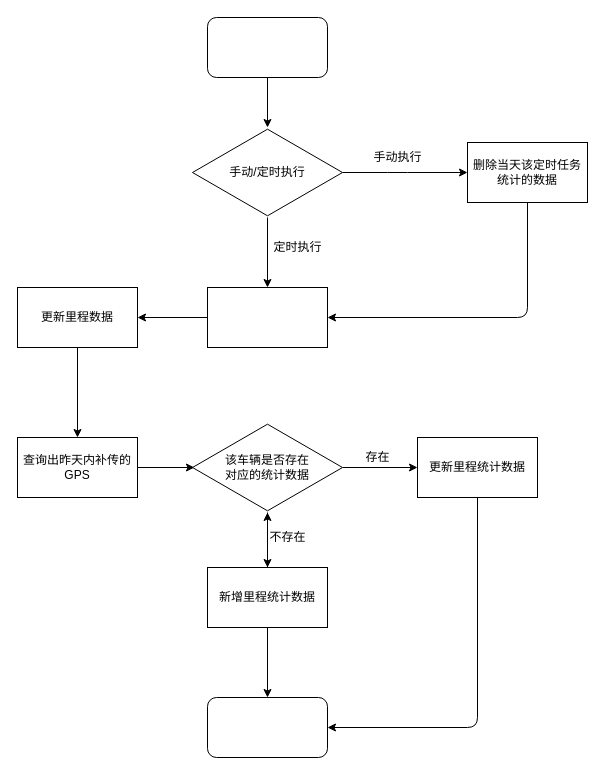
Image size: 605x775. Some labels were removed from this diagram. Here are the shapes that lost their labels. From the top down, the box of each, then its label:
(206, 16, 328, 78): 行驶里程定时统计
(206, 286, 328, 348): 查询昨天的GPS、按车辆分组统计GPS数量
(206, 696, 328, 758): 结束
